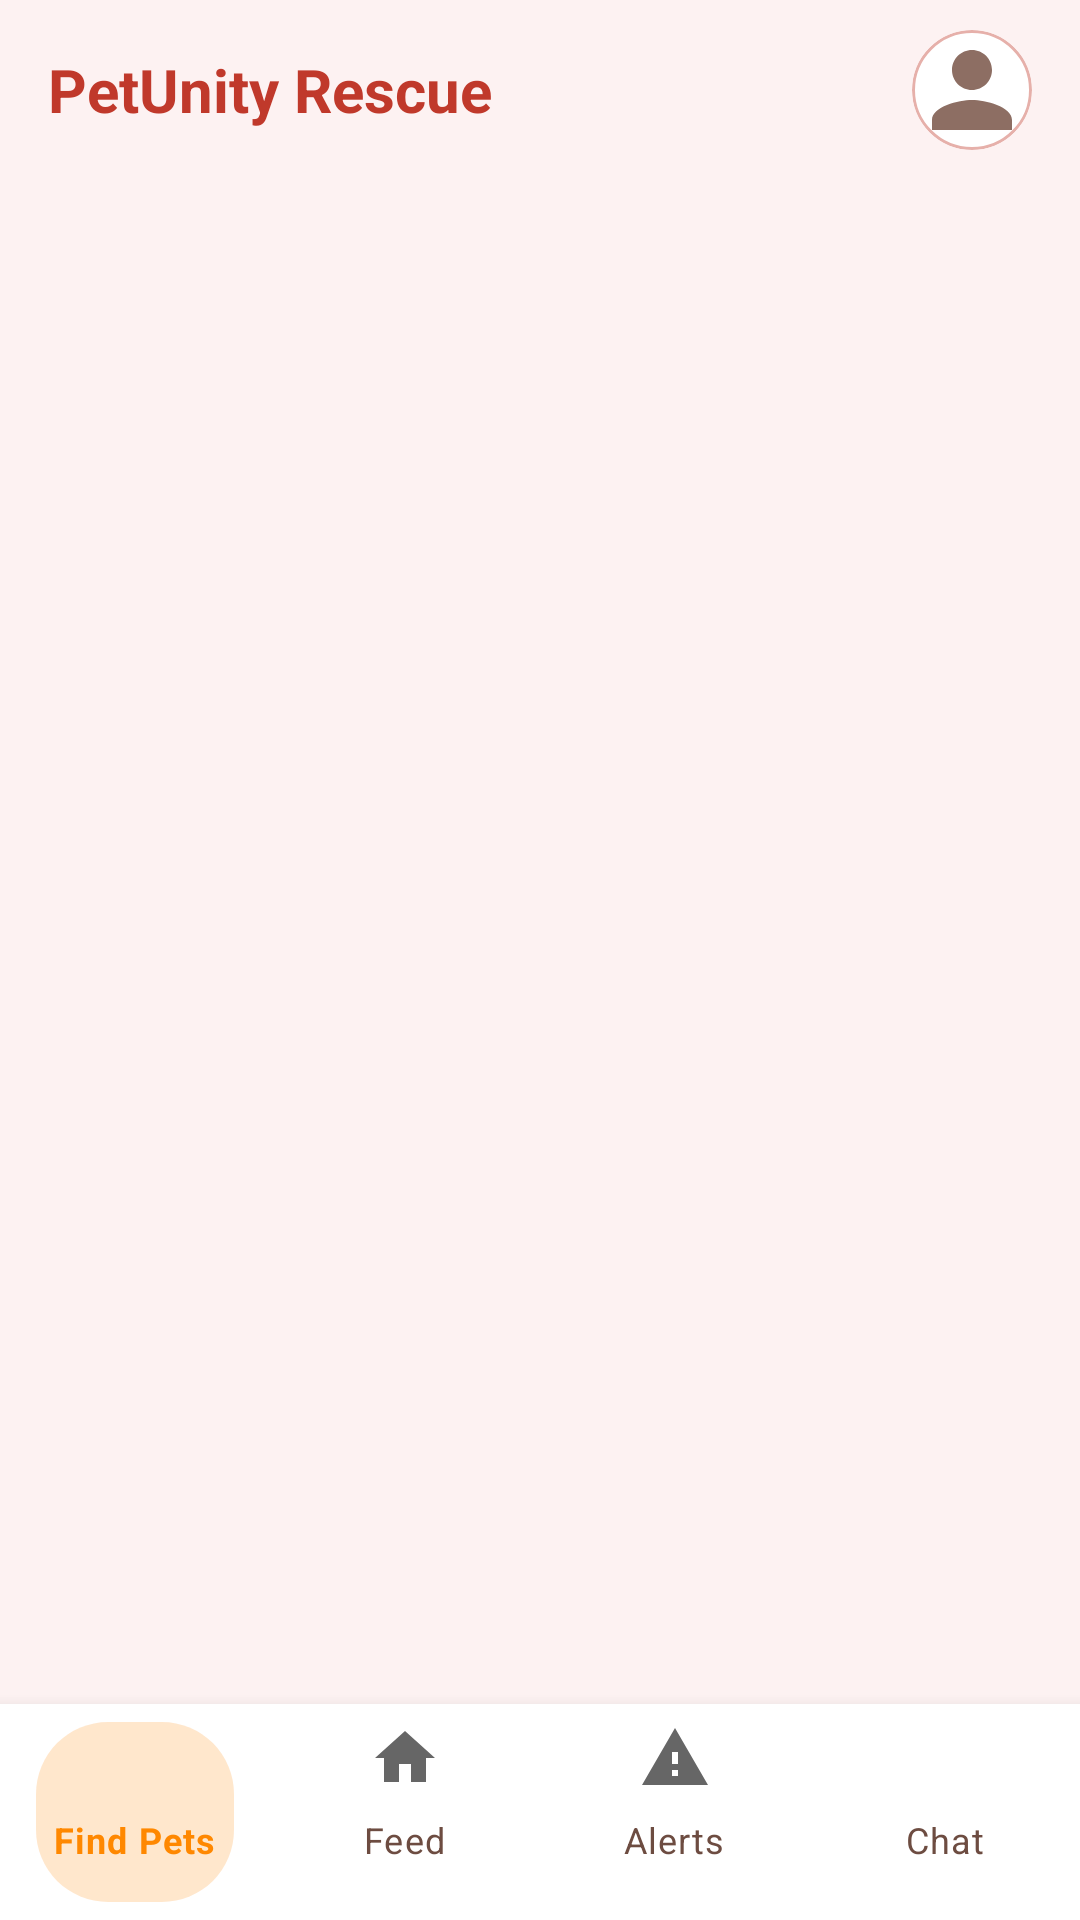

Icons on this 1080 × 1920 Android screen, each with its box as (x1, y1, x2, y2):
user: (912, 30, 1032, 150)
